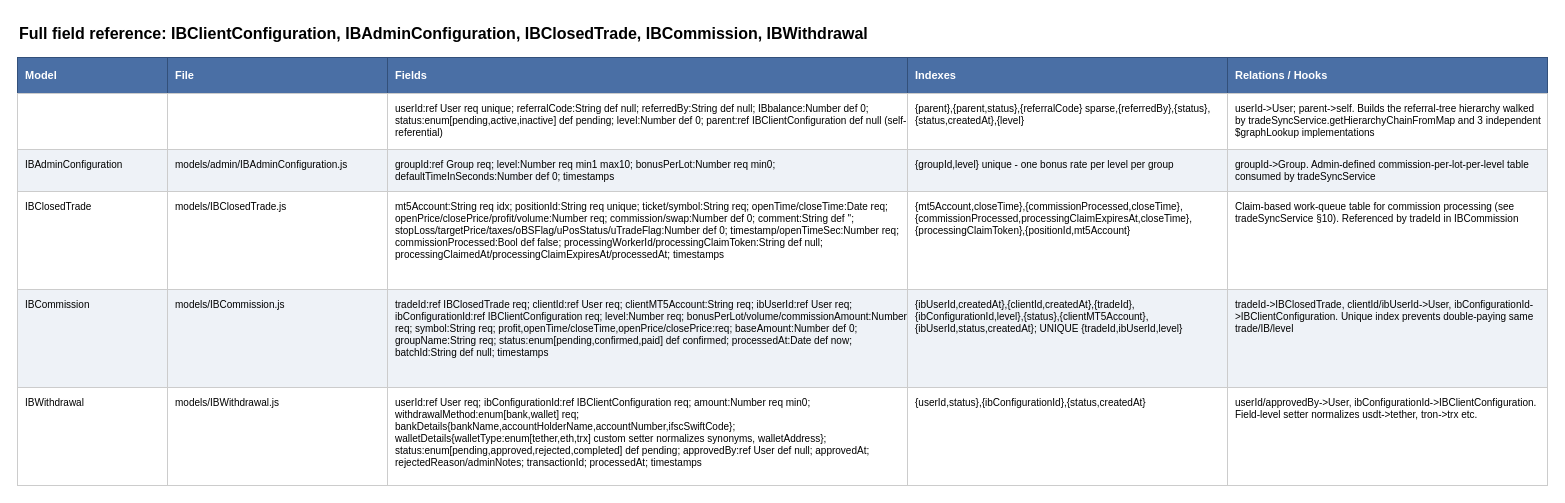
The diagram is 1565 pixels wide and 503 high, and some of its shapes have lost their labels. The shapes that lost their labels are listed below. From the top down, each one's centre as x and y in pixels, then its label:
At [92,121]: "IBClientConfiguration".
At [277,121]: "models/client/IBClientConfiguration.js".
